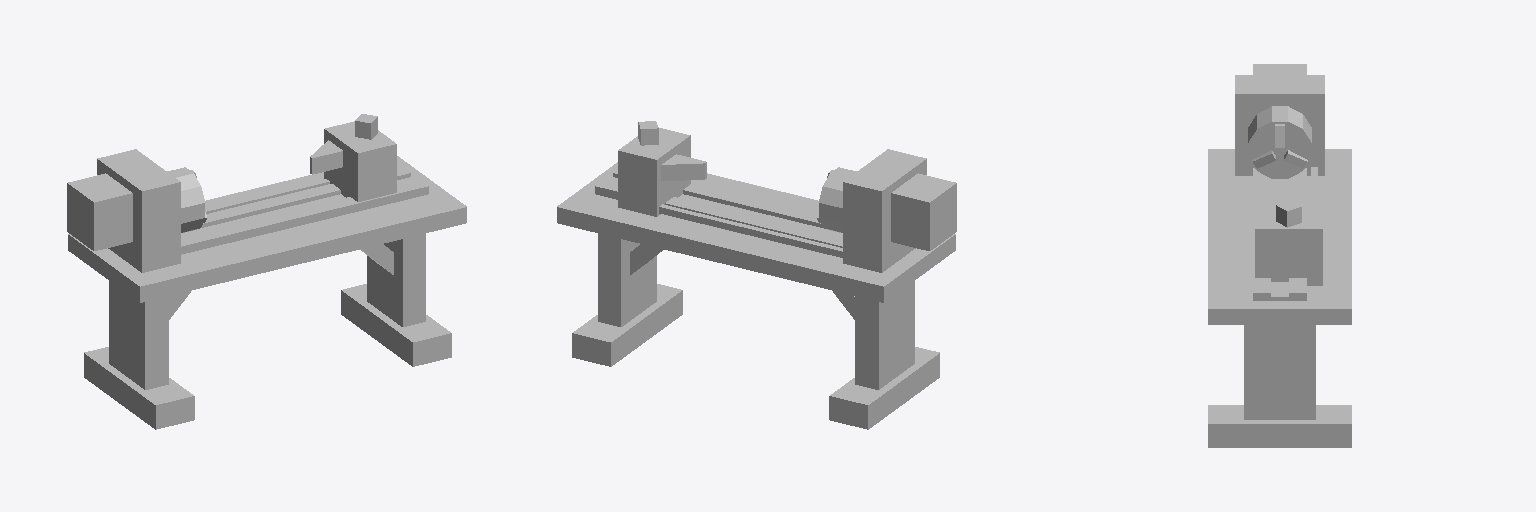
Rendered from lathe.obj.
3 views of the same model, side by side, from view 1: azimuth 30°, elevation 25°; view 2: azimuth 150°, elevation 25°; view 3: azimuth 270°, elevation 25° (orthographic).
Visible parts, largest first — view 1: cube, cylinder; view 2: cube, cylinder; view 3: cube, cylinder.
Part boxes in pixels (left/top/right/bottom): cube: left=67, top=114, right=466, bottom=429; cylinder: left=167, top=167, right=204, bottom=232; cube: left=557, top=121, right=956, bottom=429; cylinder: left=819, top=167, right=856, bottom=232; cube: left=1208, top=64, right=1351, bottom=447; cylinder: left=1248, top=106, right=1311, bottom=178.
Bounding box in the file's own units: 2.81 × 1.75 × 1.